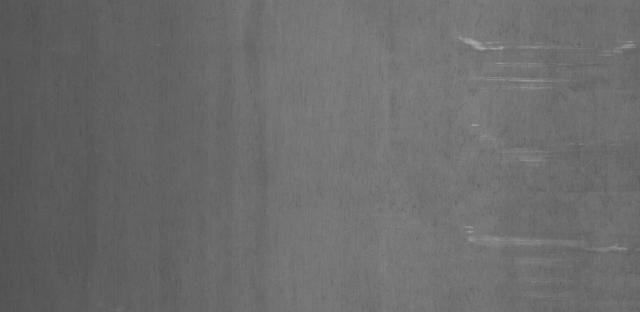waist_folding: (428, 38, 630, 257)
